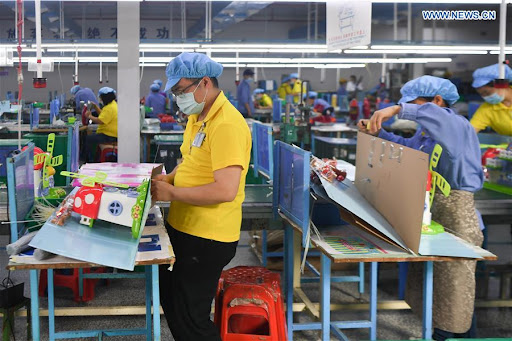person: (356, 76, 488, 341), (153, 53, 252, 341), (467, 61, 512, 136), (81, 85, 119, 163), (67, 84, 99, 117), (236, 67, 255, 121), (144, 83, 167, 115), (302, 91, 332, 115), (288, 72, 304, 105), (252, 88, 274, 108)
